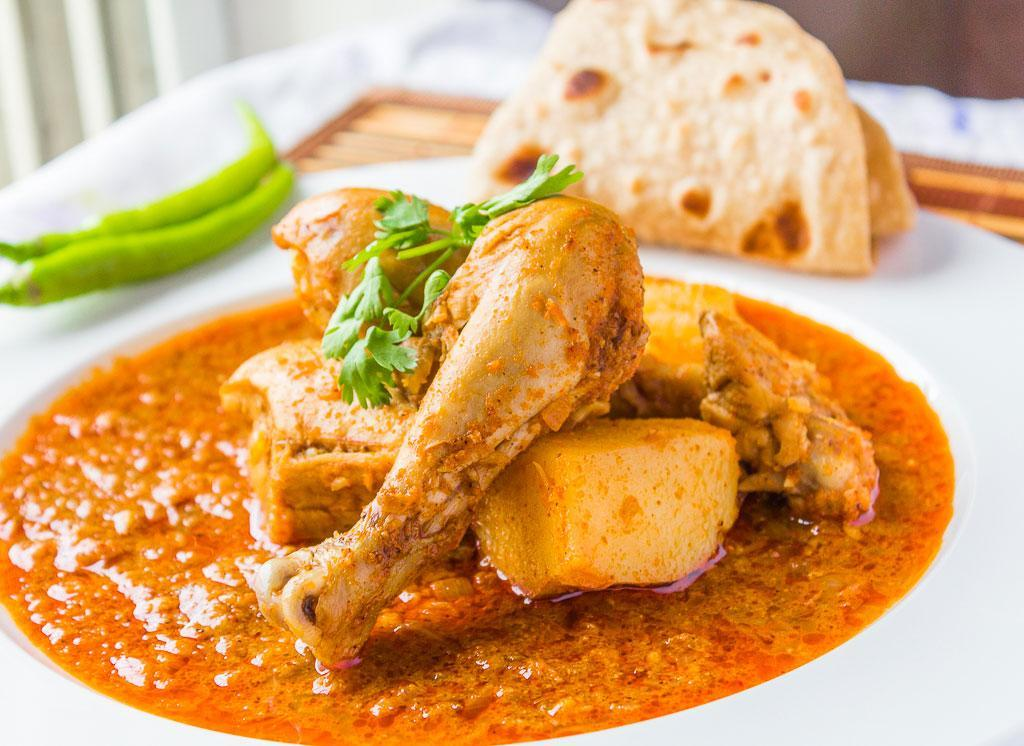chicken: (0, 203, 948, 746)
roti: (502, 11, 980, 267)
